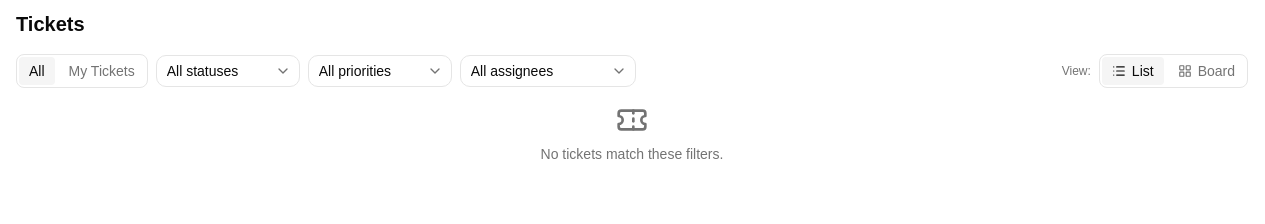
TicketsQueuePage › switches to the board view, hiding the list-only status filter
Expected: the text "No tickets match these filters." is shown, [541, 144, 723, 164]
Step 1. Click the button "Board" → x=1206, y=71, box [1168, 57, 1245, 85]
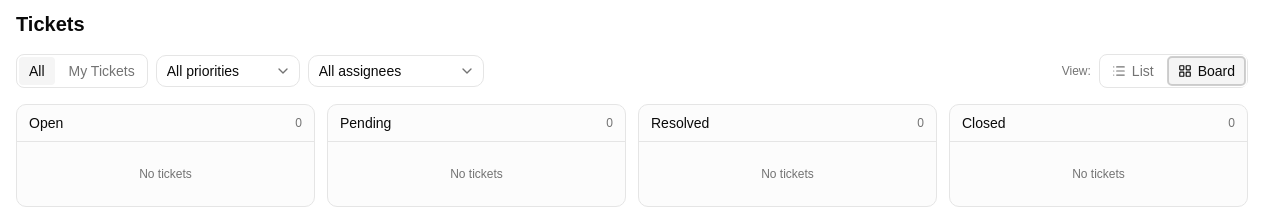
Now the text "Open" is shown, box [29, 113, 63, 133]
